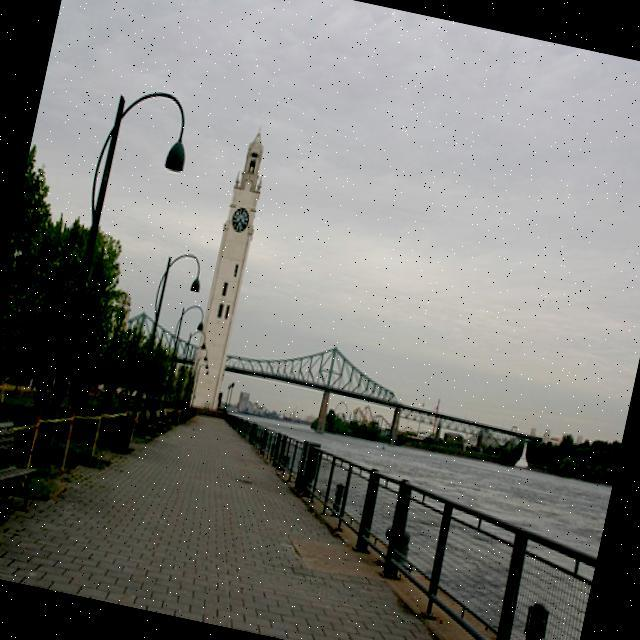fire_hydrant: (510, 599, 552, 640)
